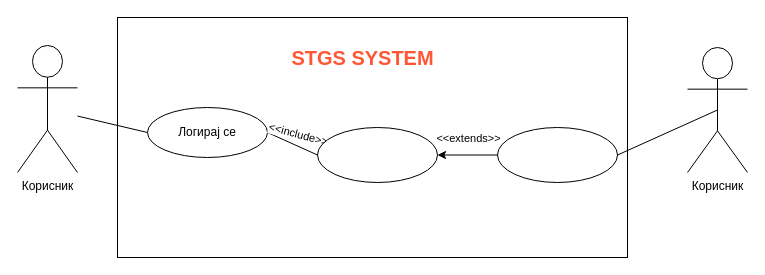
This 765x275 diagram has some shape labels left out. Each missing label, with the centre of its shape:
Испрати барање за научно патување: [557,154]
Прегледај научни патувања: [377,154]
